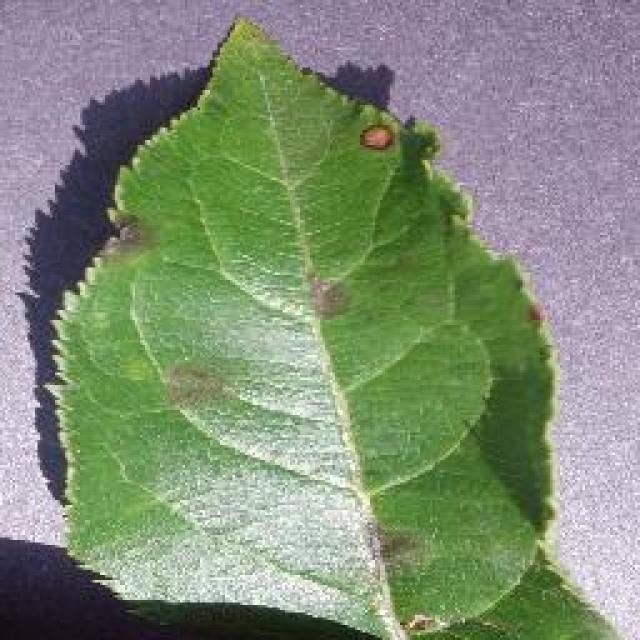Apple___Apple_scab: (39, 14, 630, 638)
